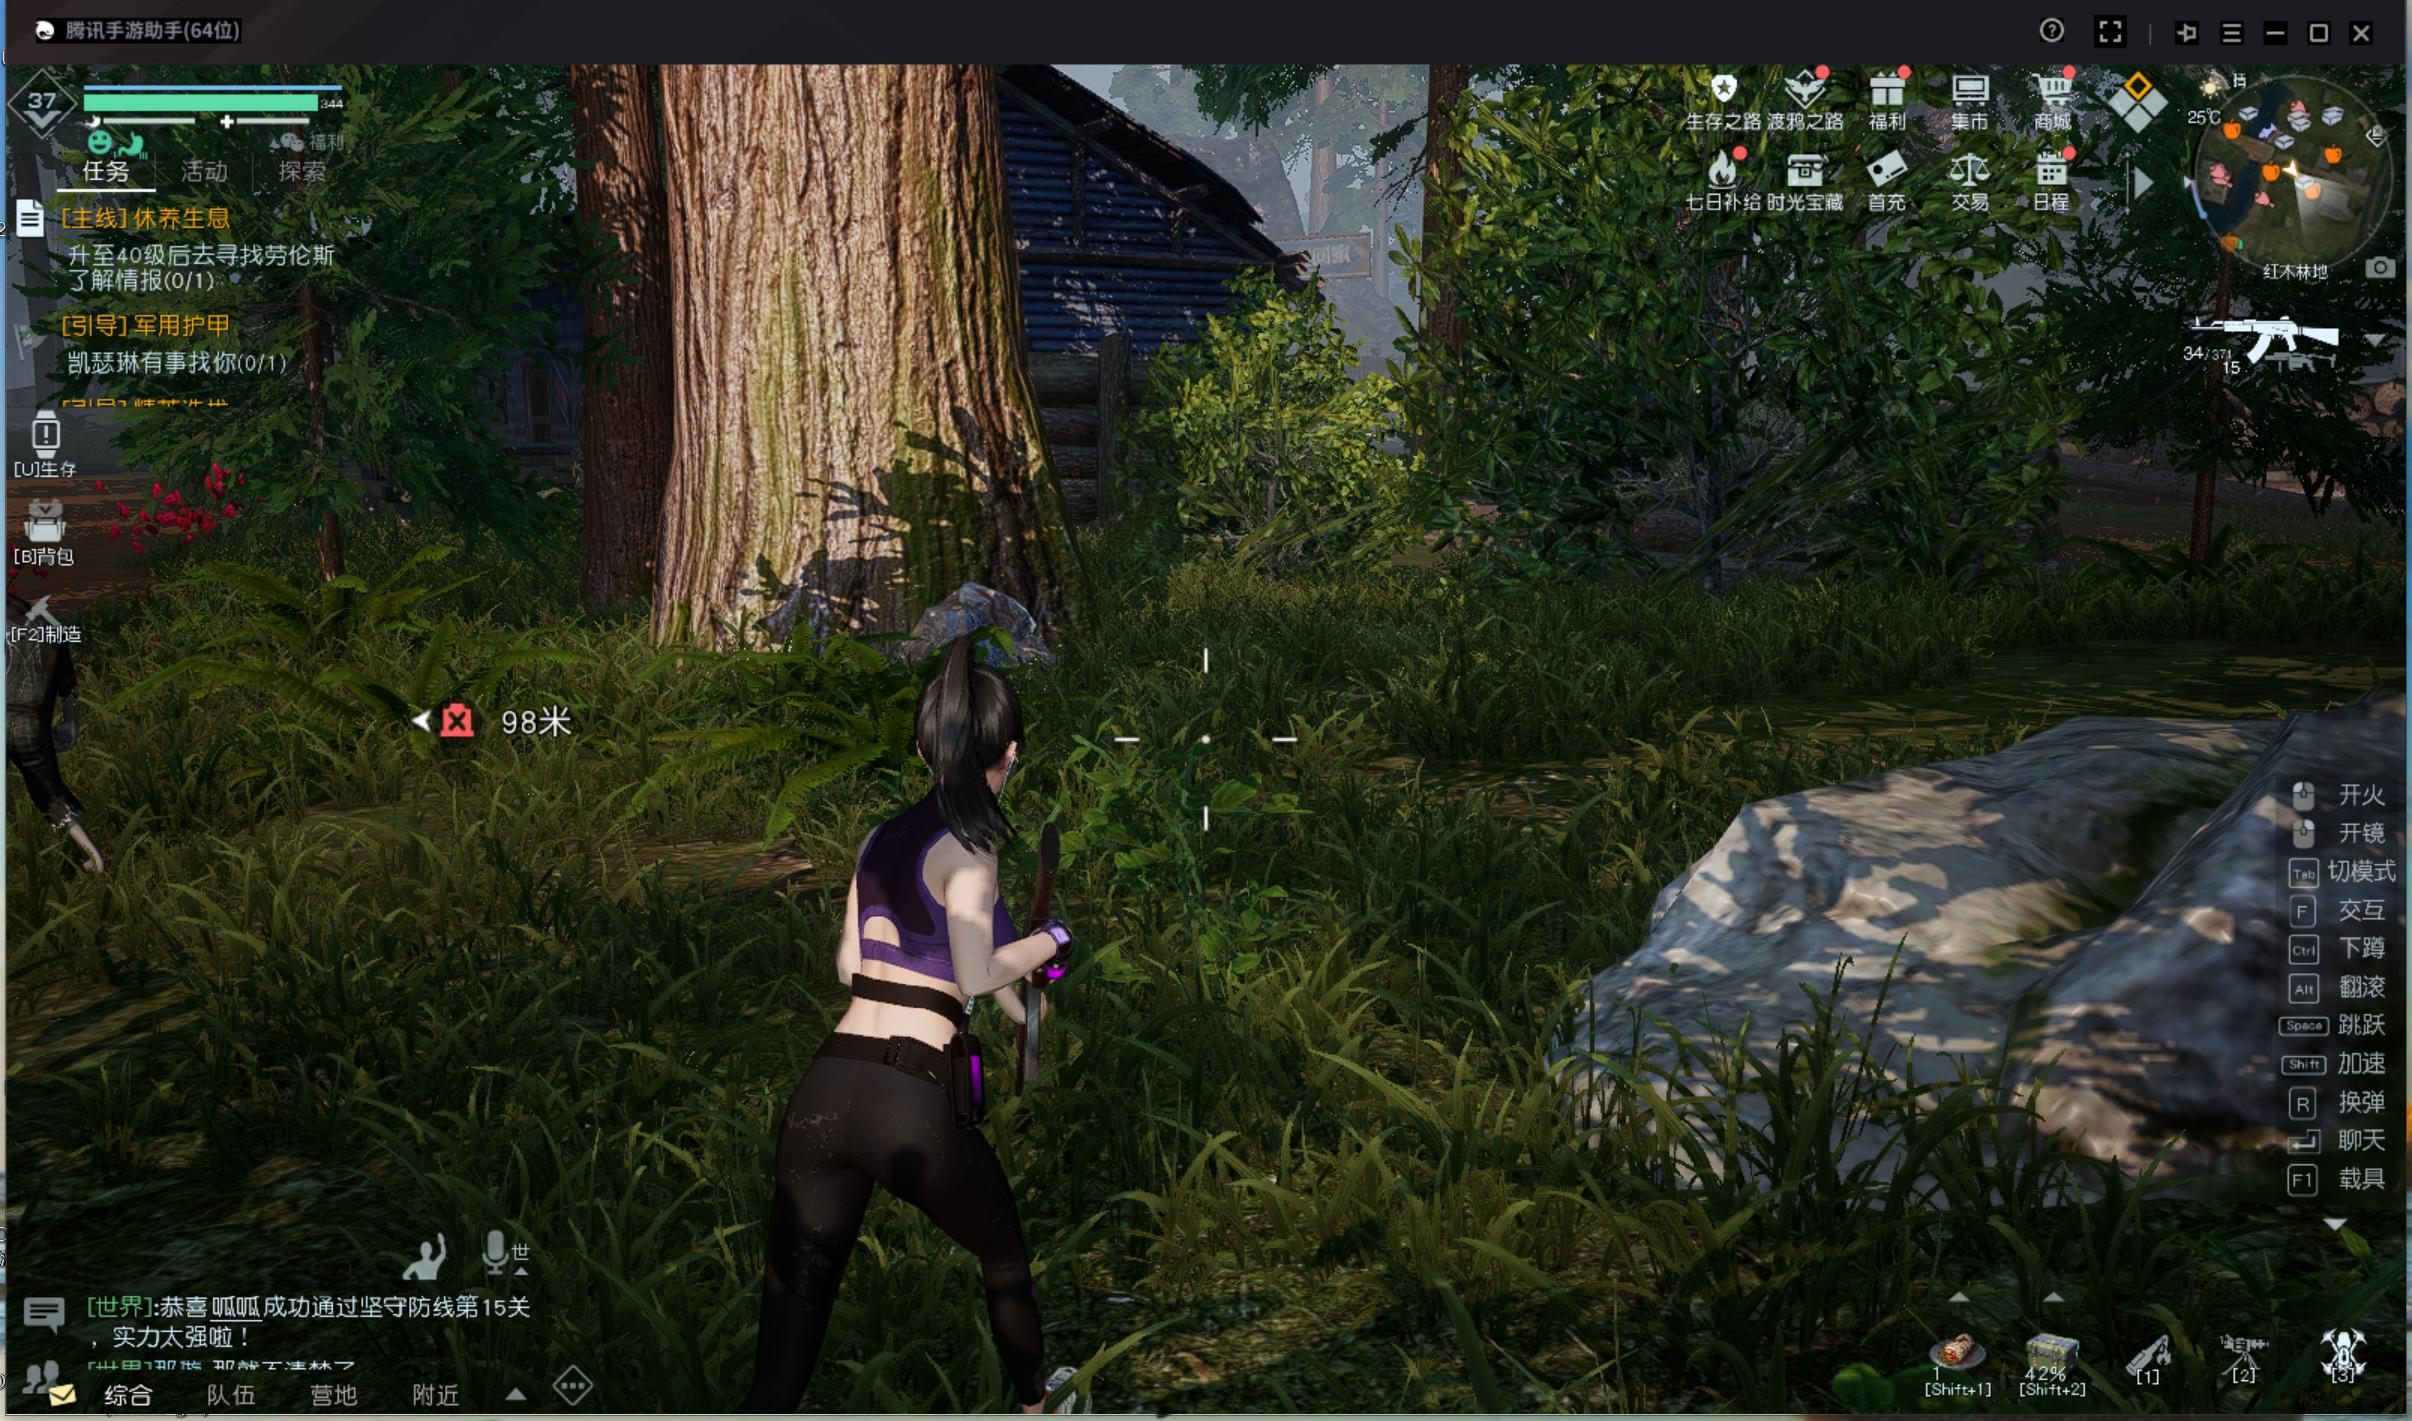stone: (854, 567, 1081, 673)
tree: (646, 127, 1069, 541)
